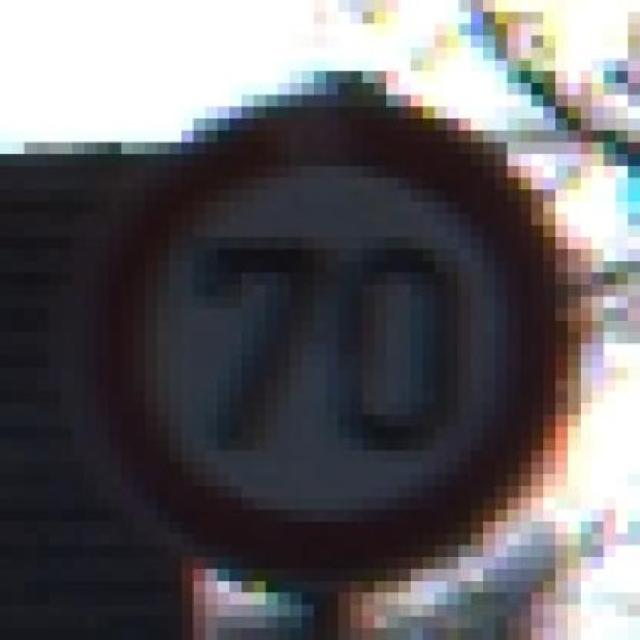forb_speed_over_70: (99, 110, 563, 579)
